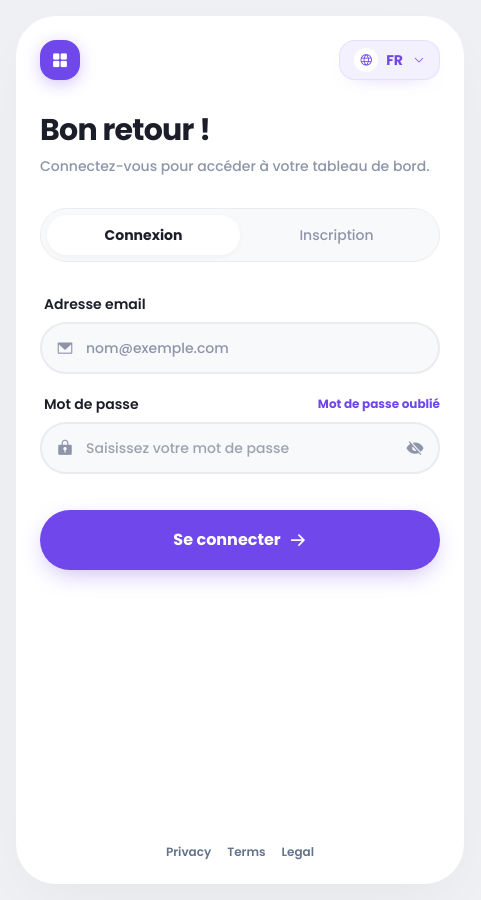
Test case: App › submits a forgot password request from the auth page
This screenshot has width=481, height=900.
Click the button "Mot de passe oublié". click: point(379, 404)
box: [318,396,440,412]
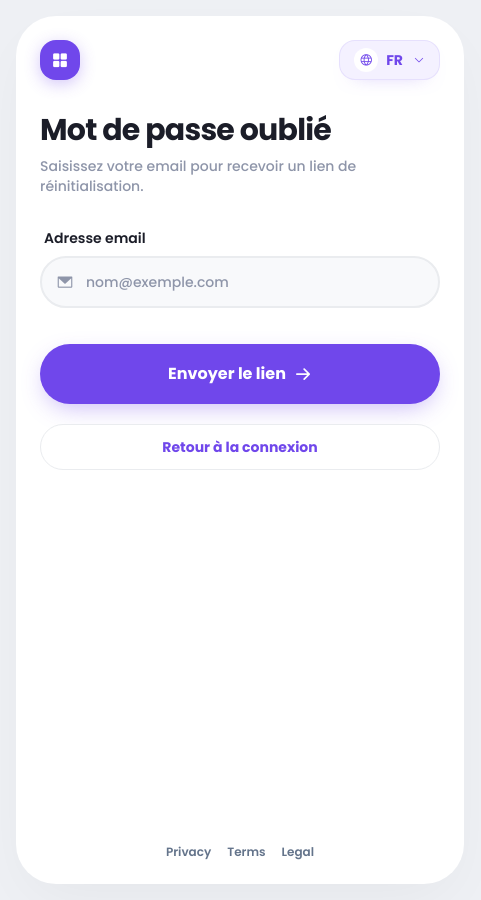
Type "reset@test.local" into the field with placeholder "nom@exemple.com". click: point(240, 282)
box: [40,256,440,308]
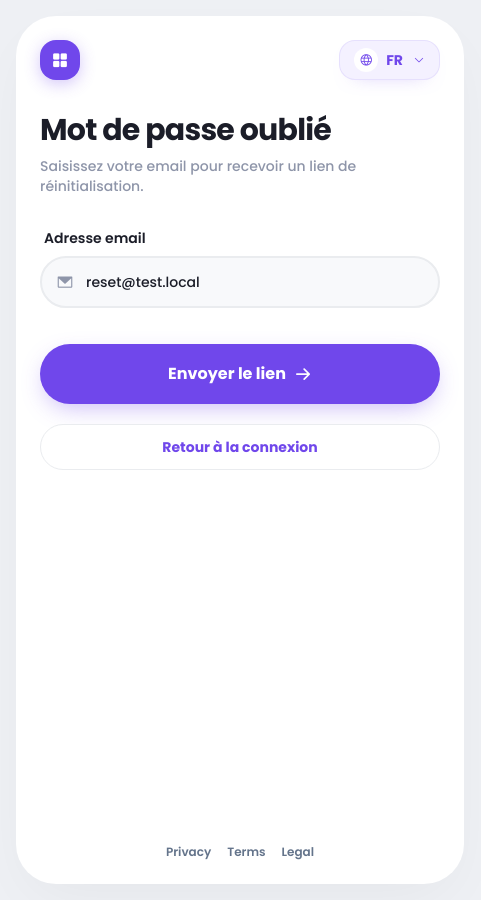
Click the button "Envoyer le lien". click: point(240, 374)
box: [40,344,440,404]
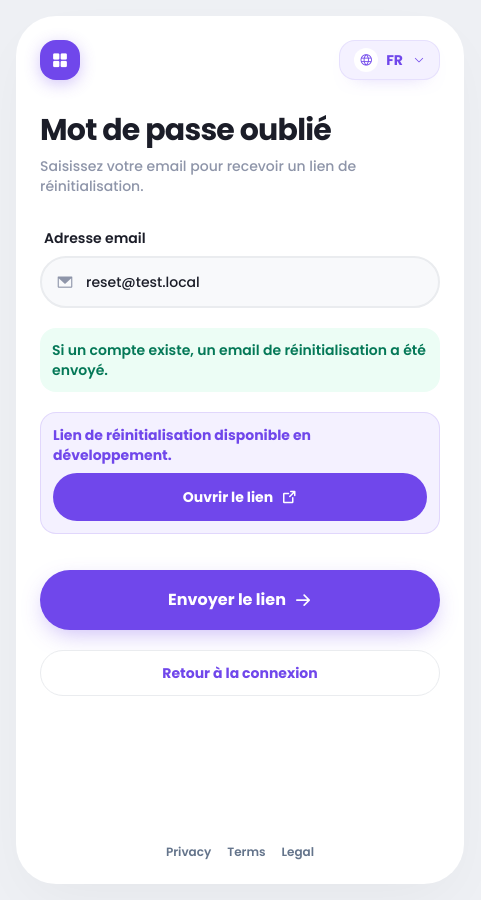
Expected: the text "Si un compte existe, un email de réinitialisation a été envoyé." is shown, [40,328,440,392]
